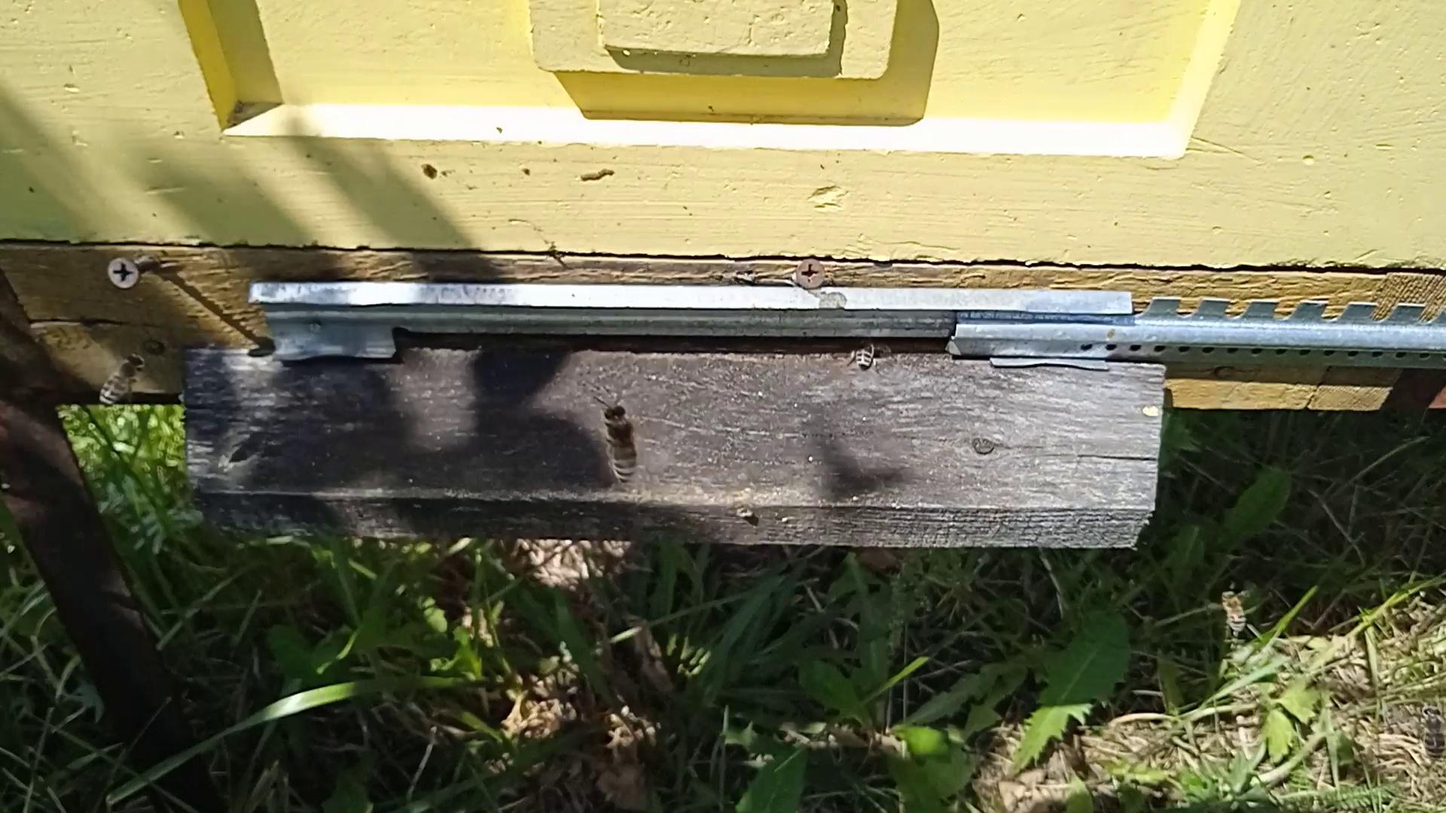worker-bee: (600, 403, 640, 484), (331, 247, 423, 281), (98, 354, 145, 408), (1421, 705, 1446, 760), (1220, 588, 1246, 634), (849, 339, 882, 371)
